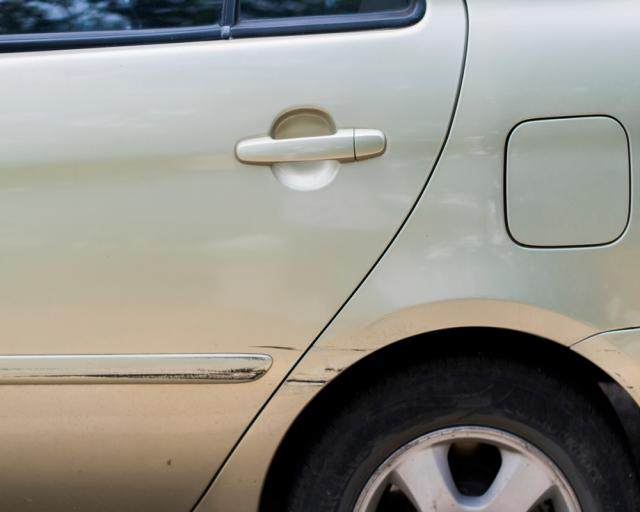scratch: (0, 341, 309, 384), (283, 339, 379, 385)
